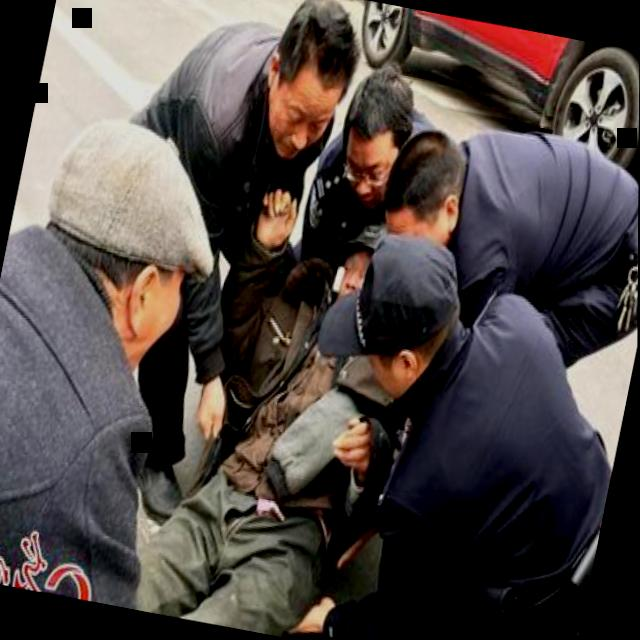Fall-Detected: (126, 175, 437, 639)
